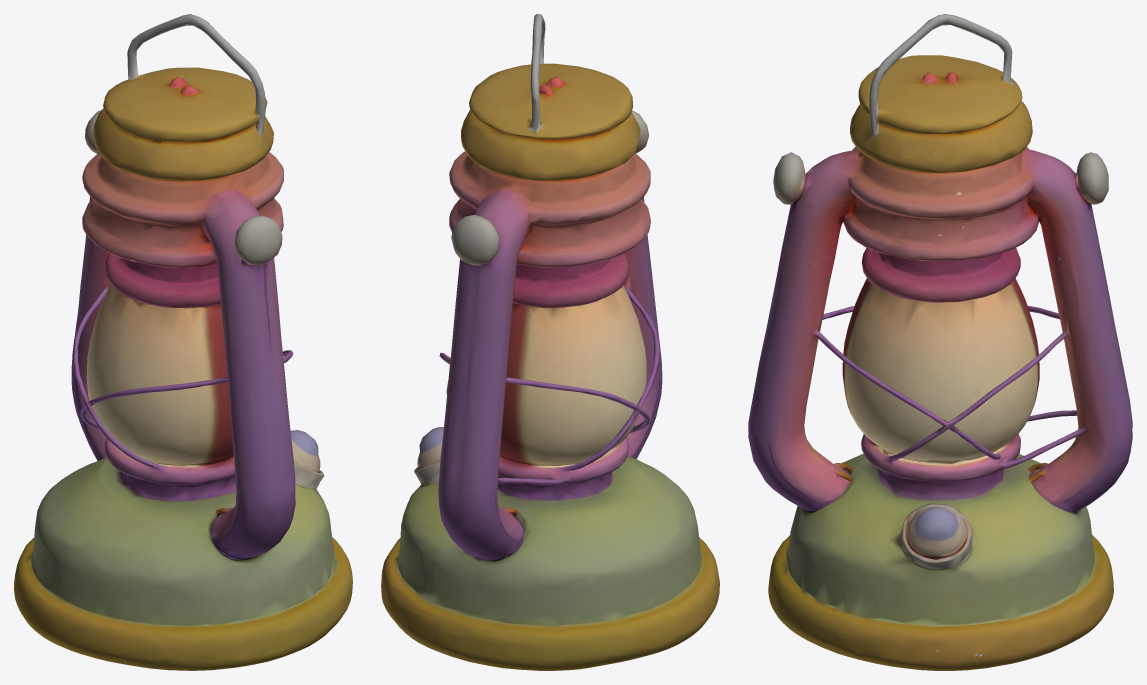
The model's file is lantern_h3.glb.
3 renders of one model, left to right at view 1: azimuth 30°, elevation 25°; view 2: azimuth 150°, elevation 25°; view 3: azimuth 270°, elevation 25°, orthographic.
Parts seen in each view (by area): view 1: tripo_node_88a3ec87-dba2-49fd-99cb-1695eb283b95; view 2: tripo_node_88a3ec87-dba2-49fd-99cb-1695eb283b95; view 3: tripo_node_88a3ec87-dba2-49fd-99cb-1695eb283b95.
Part boxes in pixels (box(x1,y1,x2,y2)): tripo_node_88a3ec87-dba2-49fd-99cb-1695eb283b95: box(14, 14, 352, 670); tripo_node_88a3ec87-dba2-49fd-99cb-1695eb283b95: box(381, 14, 719, 670); tripo_node_88a3ec87-dba2-49fd-99cb-1695eb283b95: box(748, 14, 1132, 670).
Size of the model in its own units: 0.5245 by 1 by 0.5843.
1 material, 1 textured.
